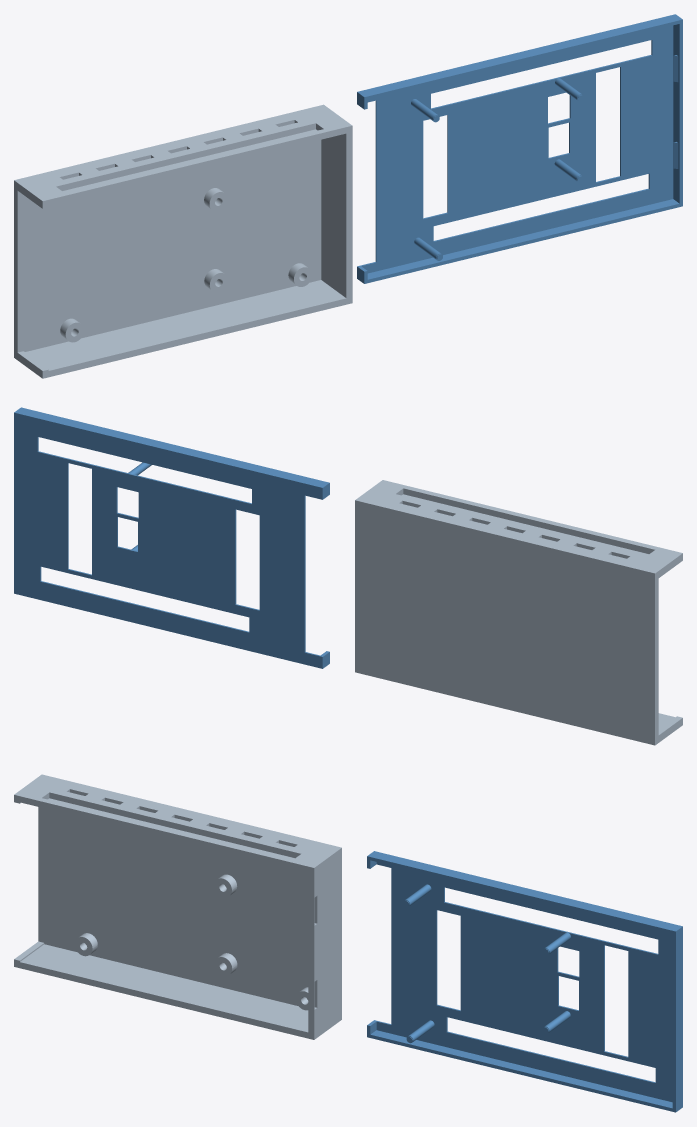
File: .arduino_giga_r1_enclosure_snapfit_print_layout_pre_top_thickening.step.glb
The picture shows the model from 3 angles, top to bottom: view 1: azimuth 30°, elevation 25°; view 2: azimuth 150°, elevation 25°; view 3: azimuth 330°, elevation 25°; orthographic projection. The views are drawn at different scales.
Parts seen in each view (by area): view 1: o1.1, o1.2; view 2: o1.1, o1.2; view 3: o1.1, o1.2.
Part boxes in pixels (x1,y1,x2,y2): o1.1: [14, 104, 352, 378]; o1.2: [357, 14, 682, 283]; o1.1: [355, 480, 682, 745]; o1.2: [14, 407, 329, 668]; o1.1: [14, 774, 341, 1039]; o1.2: [367, 851, 682, 1112].
Bounding box in the file's own units: 0.2392 × 0.0645 × 0.018.
